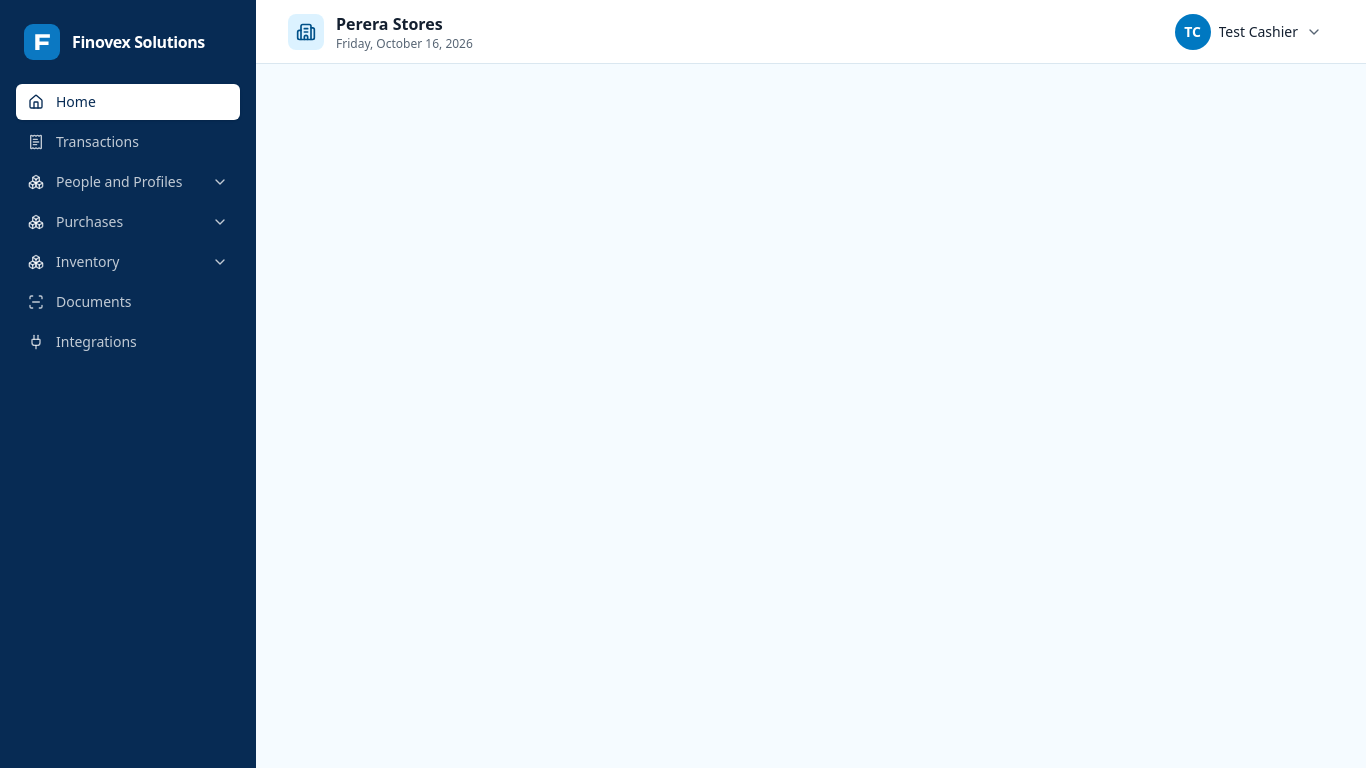
Scenario: AppLayout › keeps Inventory closed elsewhere until it is clicked
Check: the link "GRN" is not shown
Click the button "Inventory" at (128, 262), box [16, 244, 240, 280]
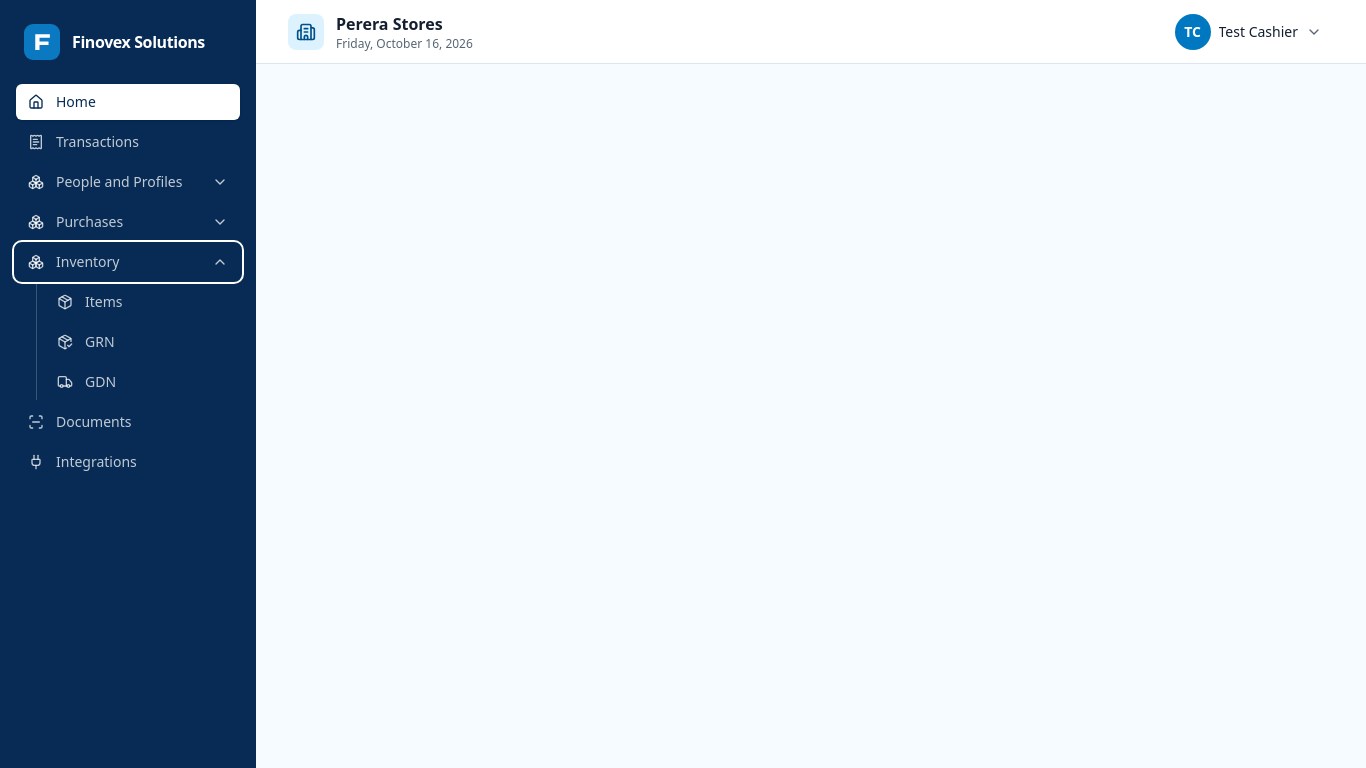
Check: the button "Inventory" is expanded, box [16, 244, 240, 280]
Check: the link "GRN" is shown, box [57, 332, 114, 351]
